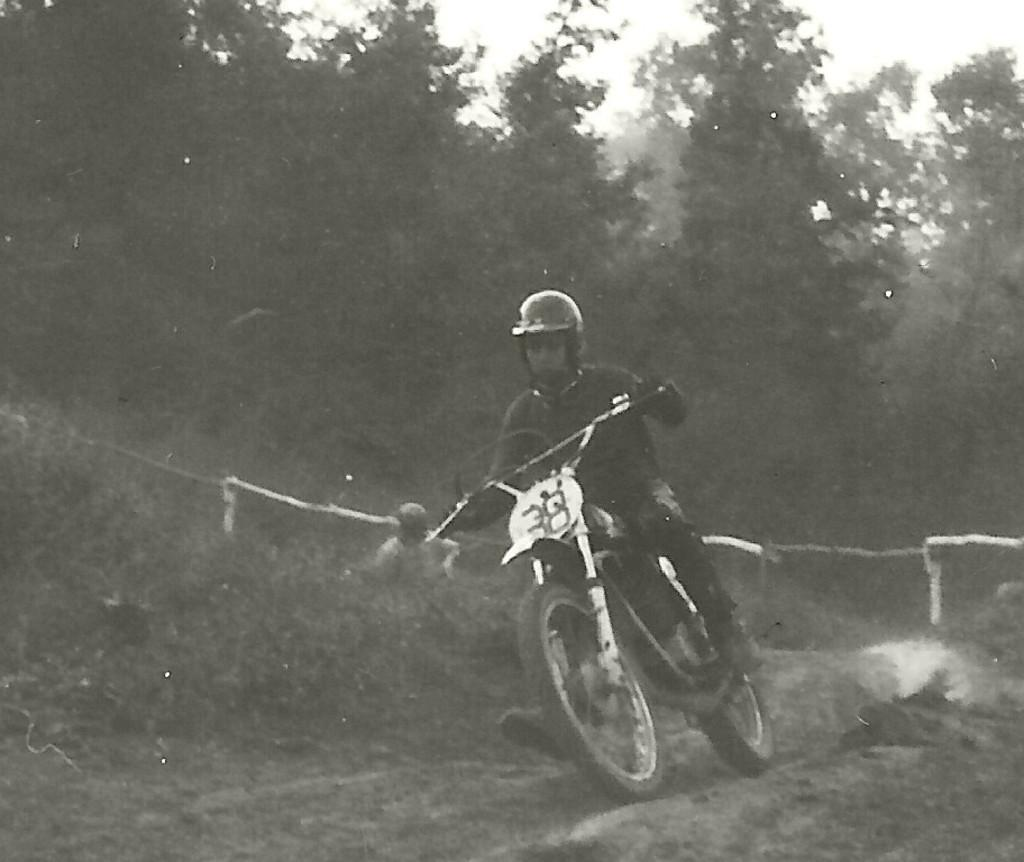helmet: (511, 289, 584, 383)
